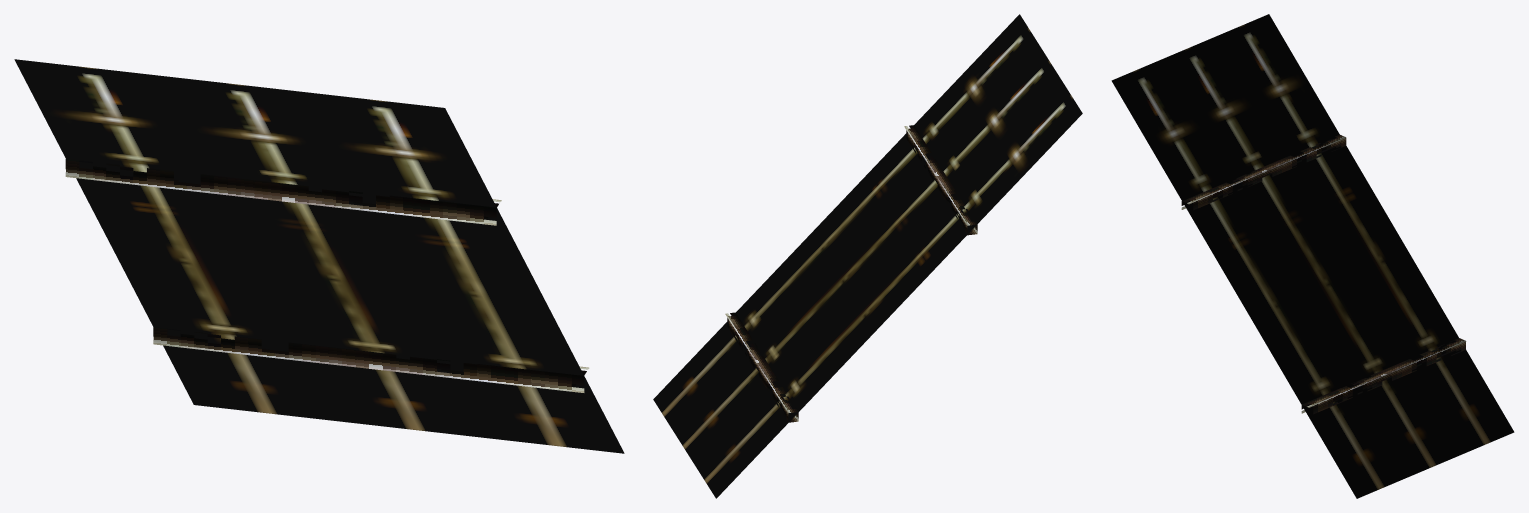
The model's file is SteelWall03.obj.
3 views of the same model, side by side, from view 1: azimuth 30°, elevation 25°; view 2: azimuth 150°, elevation 25°; view 3: azimuth 270°, elevation 25° (orthographic). The views are drawn at different scales.
Parts seen in each view (by area): view 1: Mesh_1, Mesh_0; view 2: Mesh_1, Mesh_0; view 3: Mesh_1, Mesh_0.
Part boxes in pixels (box(x1,y1,x2,y2)): Mesh_1: box(14, 59, 624, 453); Mesh_0: box(65, 159, 589, 392); Mesh_1: box(653, 14, 1082, 498); Mesh_0: box(725, 125, 977, 422); Mesh_1: box(1111, 14, 1514, 498); Mesh_0: box(1181, 134, 1466, 414).
Bounding box in the file's own units: 1.81 × 1.56 × 1.81.
Materials: 2 (2 with a texture image).
